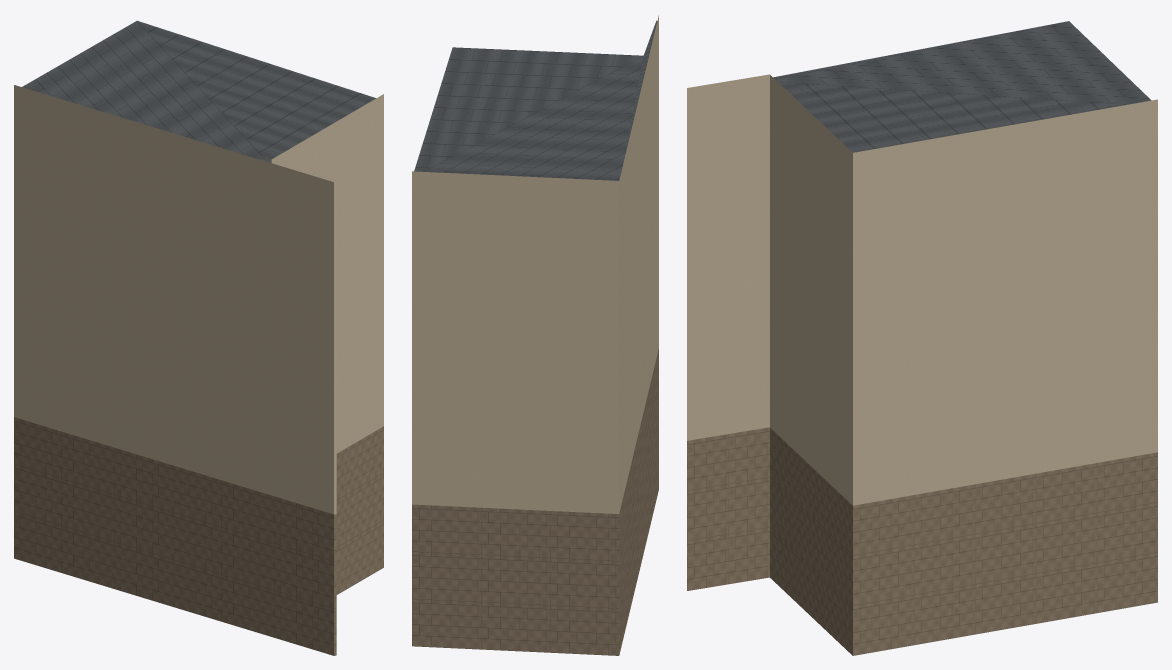
File: bld_c0_-1_540.gltf
The picture shows the model from 3 angles, left to right: view 1: azimuth 30°, elevation 25°; view 2: azimuth 150°, elevation 25°; view 3: azimuth 270°, elevation 25°; orthographic projection. The views are drawn at different scales.
Parts seen in each view (by area): view 1: bld_c0_-1_540; view 2: bld_c0_-1_540; view 3: bld_c0_-1_540.
Boxes of the visible parts, box(x1,y1,x2,y2) form: bld_c0_-1_540: box(14, 20, 383, 655); bld_c0_-1_540: box(412, 15, 658, 655); bld_c0_-1_540: box(687, 21, 1157, 655).
Size of the model in its own units: 10.11 by 17.08 by 14.49.
4 materials, 4 textured.
